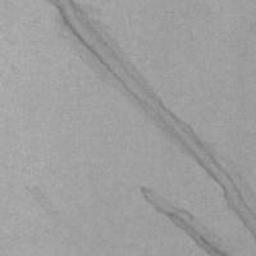Water spot: (49, 0, 256, 247), (137, 184, 242, 256)
